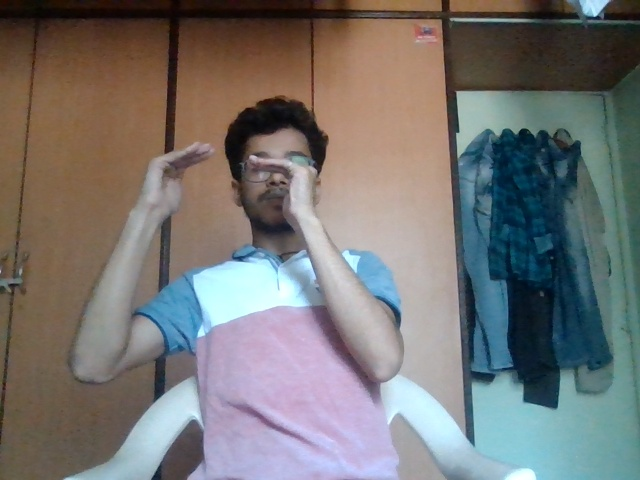afternoon: (129, 138, 351, 244)
